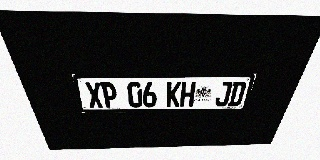0: (127, 82, 142, 107)
6: (142, 82, 157, 107)
D: (227, 81, 247, 106)
H: (180, 82, 196, 107)
J: (214, 82, 233, 106)
K: (166, 82, 181, 107)
P: (100, 82, 118, 108)
X: (84, 82, 104, 108)
